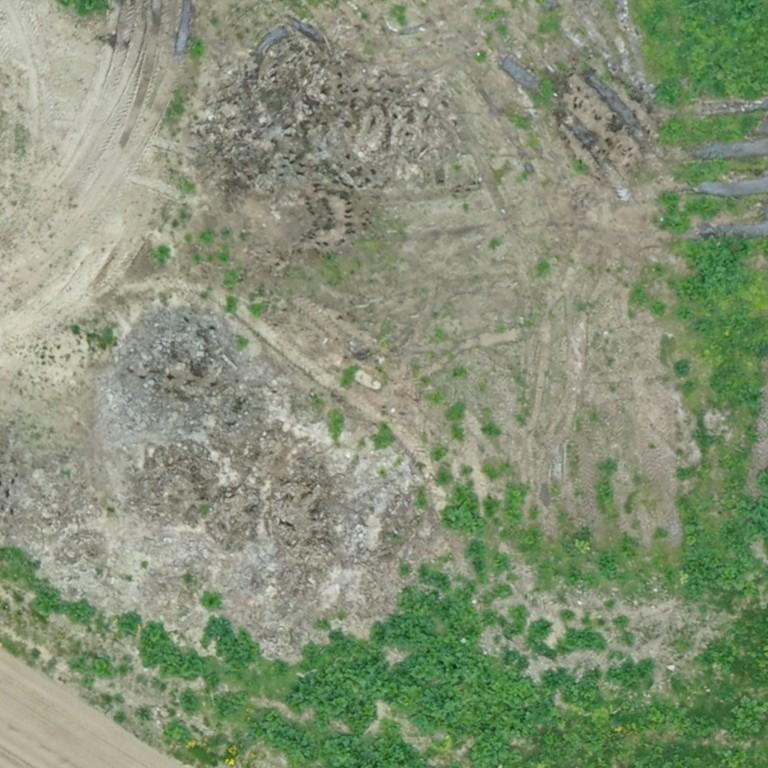hogweed: (284, 568, 596, 767), (249, 709, 427, 767), (686, 469, 767, 596), (680, 0, 767, 97), (139, 622, 218, 686), (684, 239, 740, 296), (204, 616, 259, 667), (29, 581, 94, 620), (730, 695, 767, 741), (444, 489, 479, 530), (673, 710, 718, 739), (610, 660, 653, 687), (557, 627, 605, 651), (530, 621, 553, 658), (655, 81, 686, 106), (215, 695, 245, 716), (119, 613, 142, 634), (718, 750, 746, 767), (182, 690, 196, 710)
